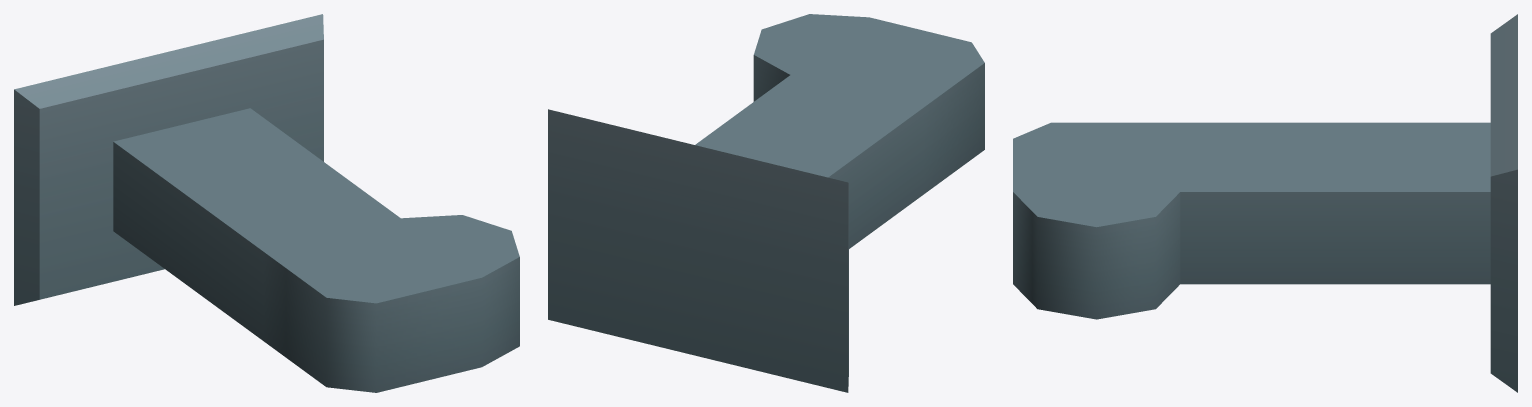
The model's file is Security_cam_009.fbx.
3 renders of one model, left to right at view 1: azimuth 30°, elevation 25°; view 2: azimuth 150°, elevation 25°; view 3: azimuth 270°, elevation 25°, orthographic. The views are drawn at different scales.
Parts seen in each view (by area): view 1: Security_cam_009; view 2: Security_cam_009; view 3: Security_cam_009.
Part boxes in pixels (left/top/right/bottom): Security_cam_009: left=14, top=14, right=519, bottom=392; Security_cam_009: left=548, top=14, right=984, bottom=392; Security_cam_009: left=1013, top=14, right=1517, bottom=392.
Size of the model in its own units: 21.89 by 30.04 by 14.67.
